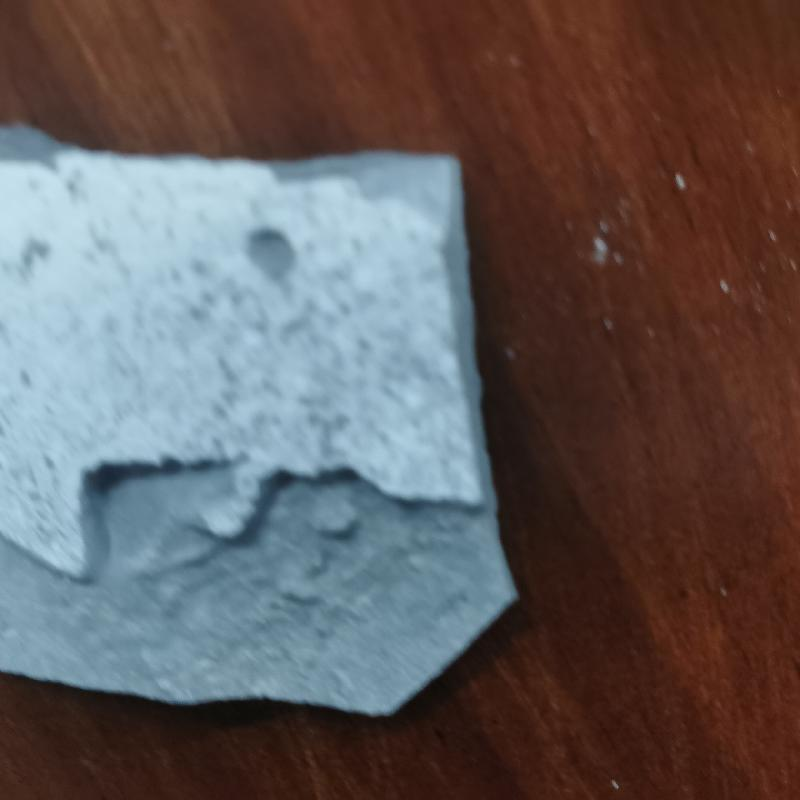tile: (1, 119, 521, 719)
